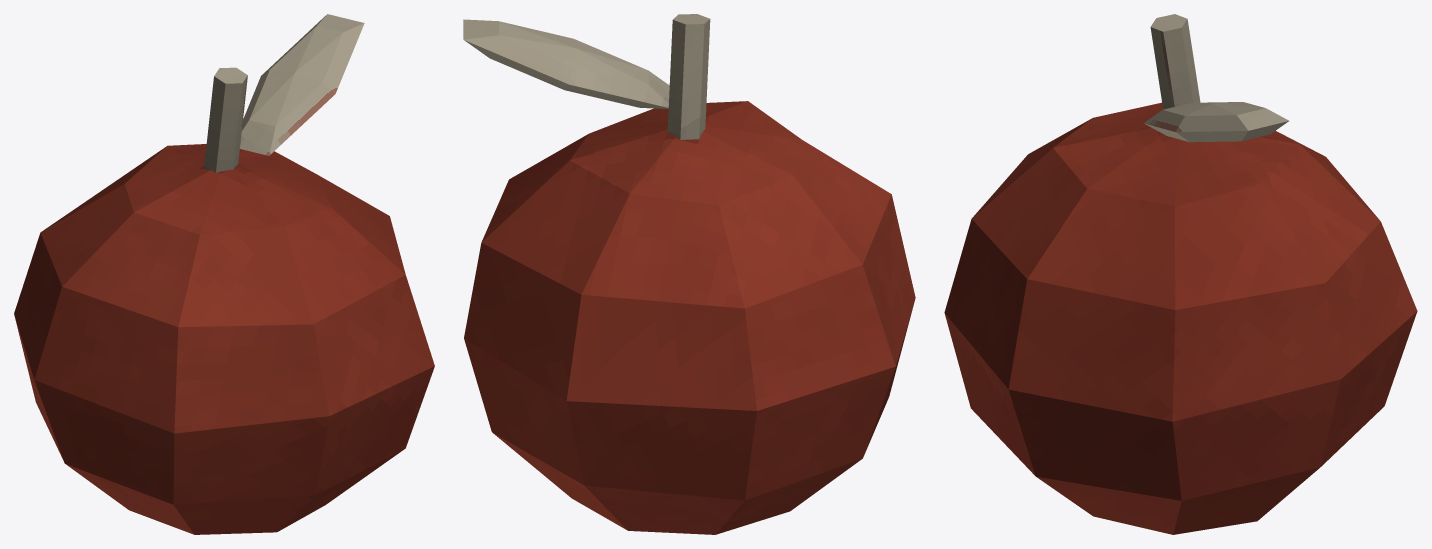
The model's file is apple_01.glb.
3 renders of one model, left to right at view 1: azimuth 30°, elevation 25°; view 2: azimuth 150°, elevation 25°; view 3: azimuth 270°, elevation 25°, orthographic. The views are drawn at different scales.
Parts seen in each view (by area): view 1: apple_01; view 2: apple_01; view 3: apple_01.
Part boxes in pixels (x1,y1,x2,y2): apple_01: [14, 14, 434, 534]; apple_01: [463, 14, 915, 534]; apple_01: [944, 14, 1417, 534].
Bounding box in the file's own units: 0.0993 × 0.1121 × 0.0988.
2 materials, 2 textured.
